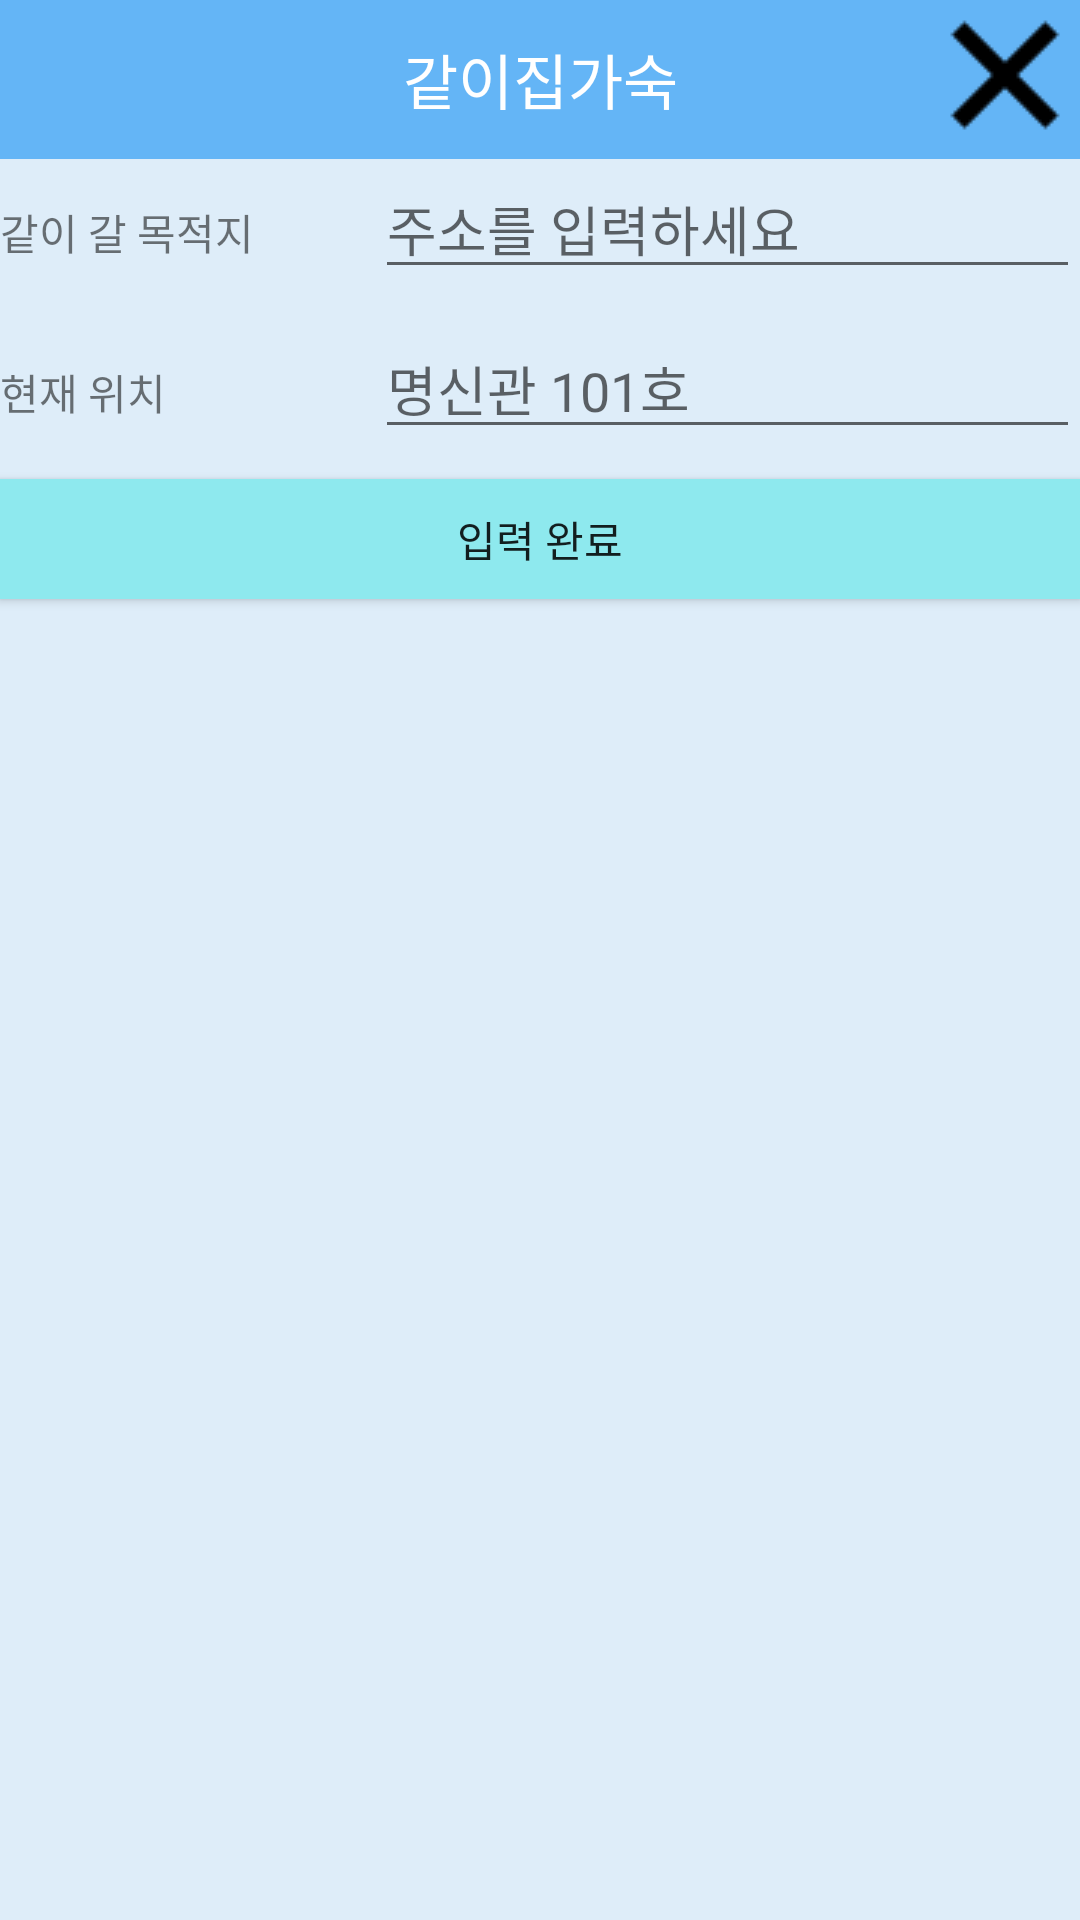

Screen size 1080px x 1920px. Icon name, then its center in pixels as point (x, y):
close clear cancel: point (1005, 75)
